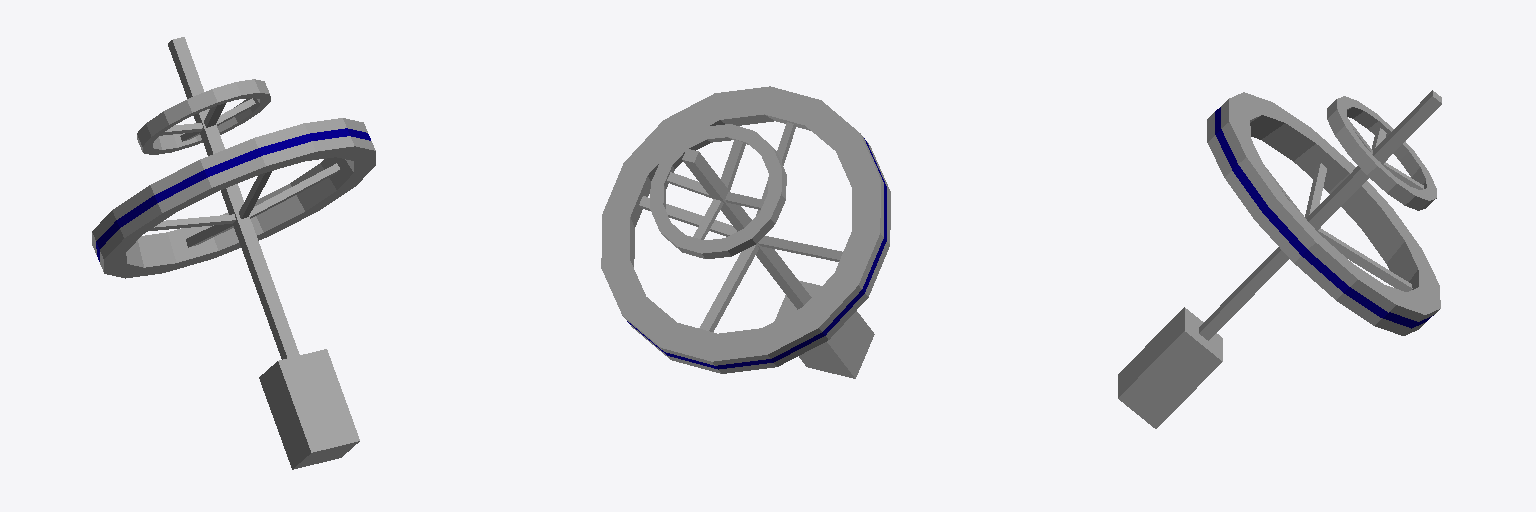
3 views of the same model, side by side, from view 1: azimuth 30°, elevation 25°; view 2: azimuth 150°, elevation 25°; view 3: azimuth 270°, elevation 25° (orthographic).
Visible parts, largest first — view 1: Cylinder.001; view 2: Cylinder.001; view 3: Cylinder.001.
Boxes of the visible parts, x1,y1,x2,y2 form: Cylinder.001: [92, 37, 375, 469]; Cylinder.001: [601, 86, 890, 378]; Cylinder.001: [1118, 90, 1441, 428].
Bounding box in the file's own units: 11.39 × 13.79 × 12.5.
Materials: 1 (1 with a texture image).